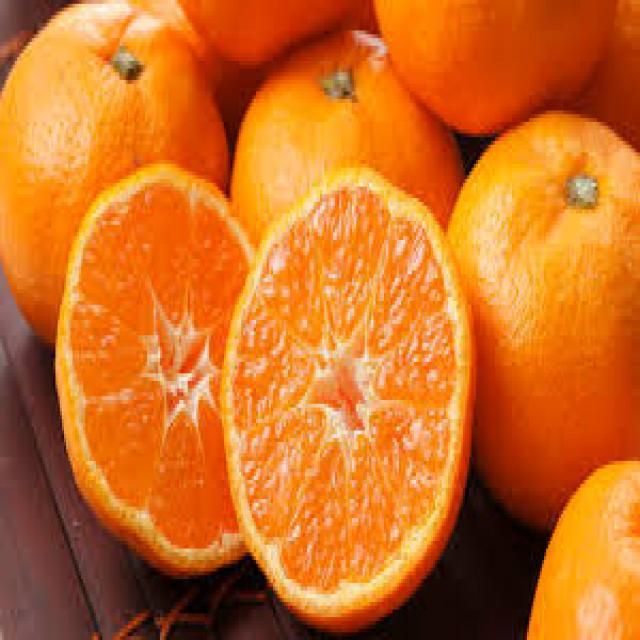organic waste: (217, 164, 473, 636), (54, 156, 264, 575), (441, 103, 638, 526), (0, 0, 226, 335), (228, 27, 463, 240), (371, 0, 625, 141), (525, 457, 638, 636), (173, 0, 365, 57), (572, 0, 638, 141)
